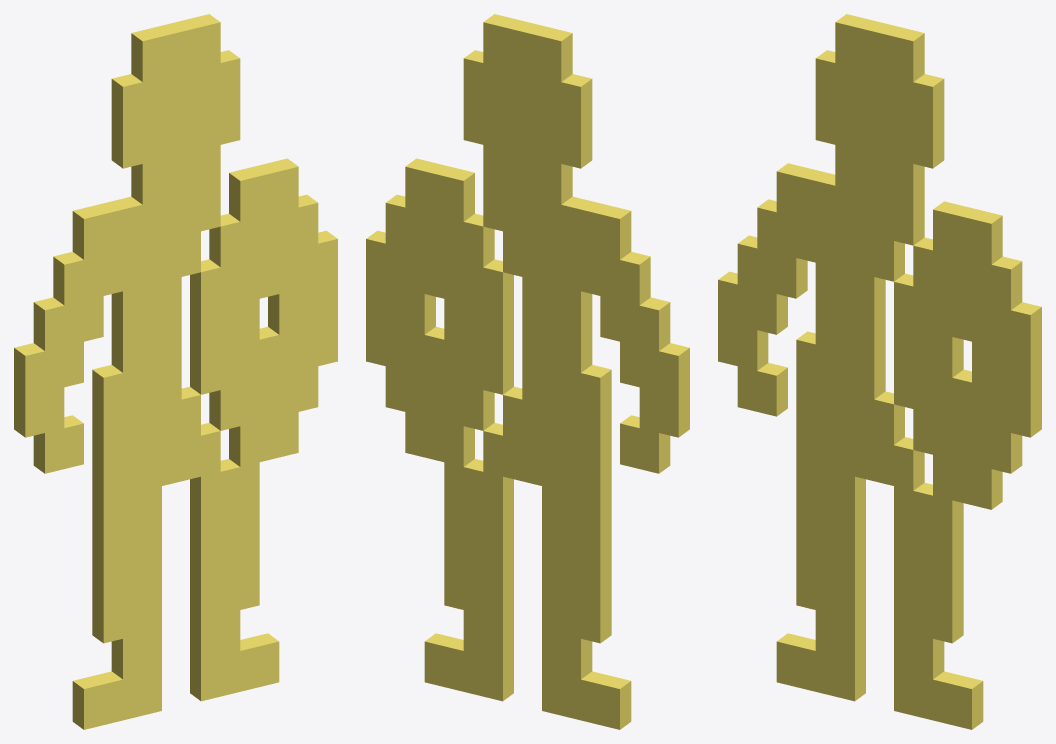
The model's file is Giant-Shield-Yellow.vox.obj.
3 views of the same model, side by side, from view 1: azimuth 30°, elevation 25°; view 2: azimuth 150°, elevation 25°; view 3: azimuth 330°, elevation 25° (orthographic).
Size of the model in its own units: 1.6 by 3.3 by 0.1.
1 material, 1 textured.
